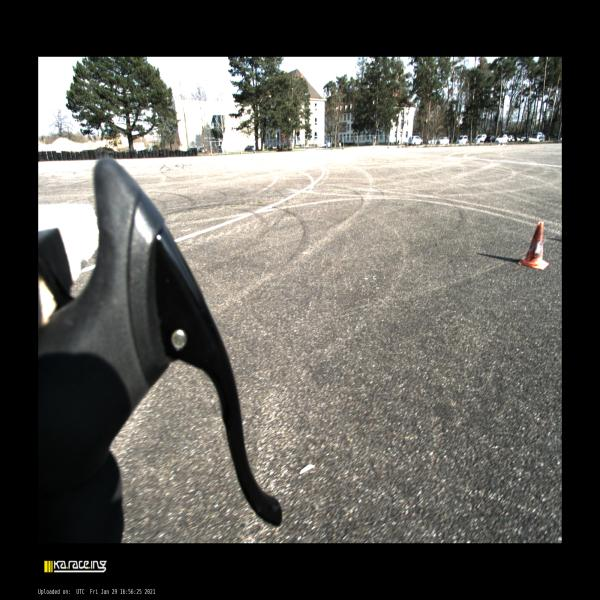orange_cone: (518, 221, 549, 270)
